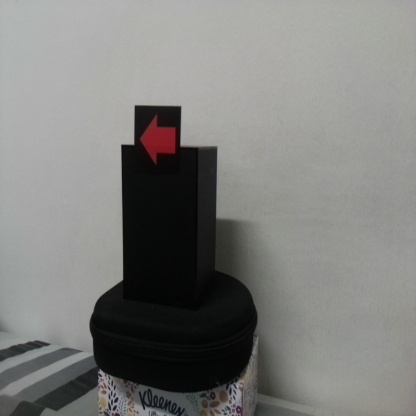id_4: (134, 106, 181, 173)
